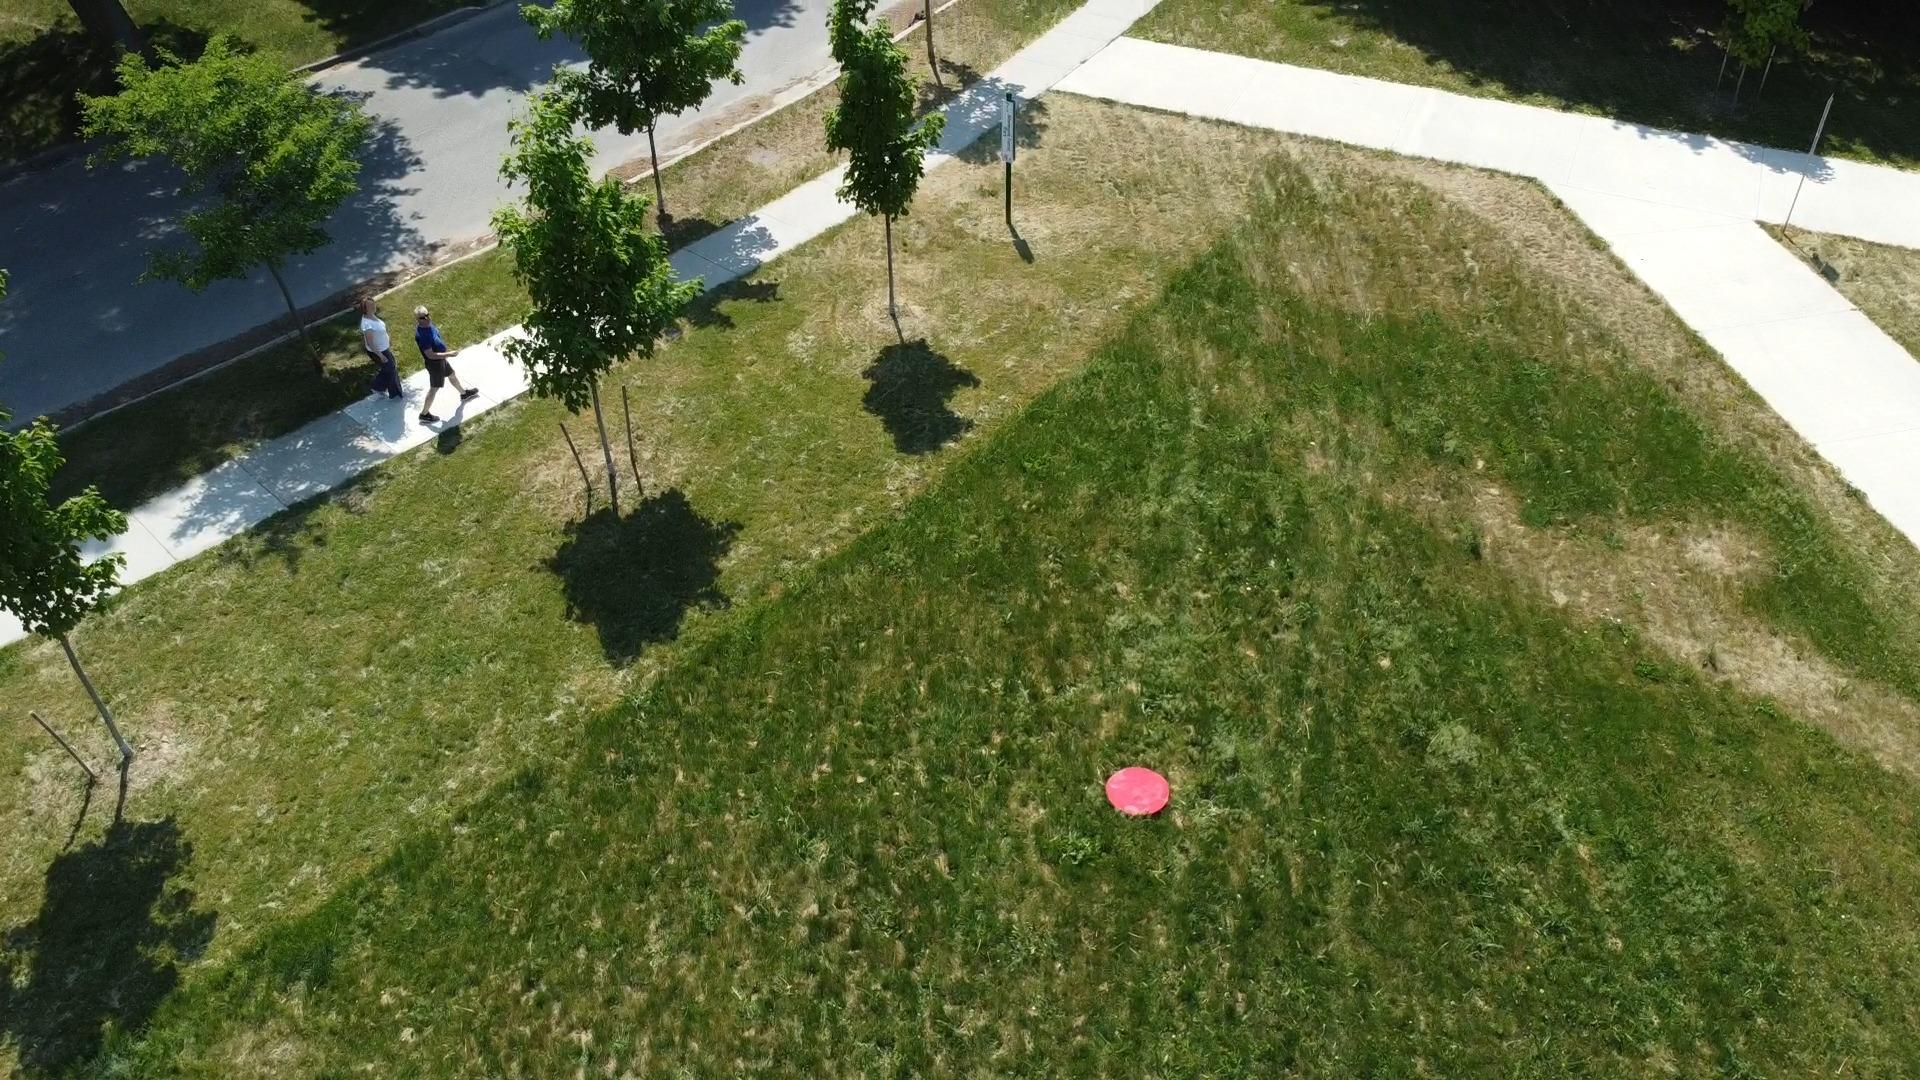Red: (1105, 764, 1172, 819)
